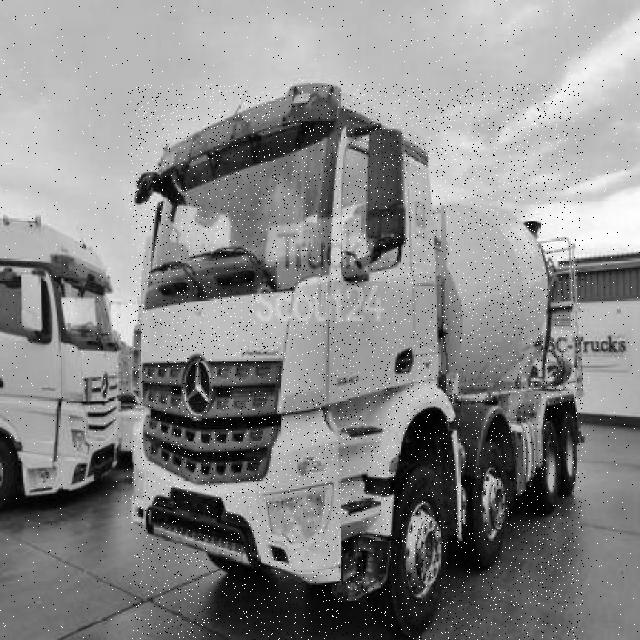Concrete Mixer: (130, 84, 583, 640)
